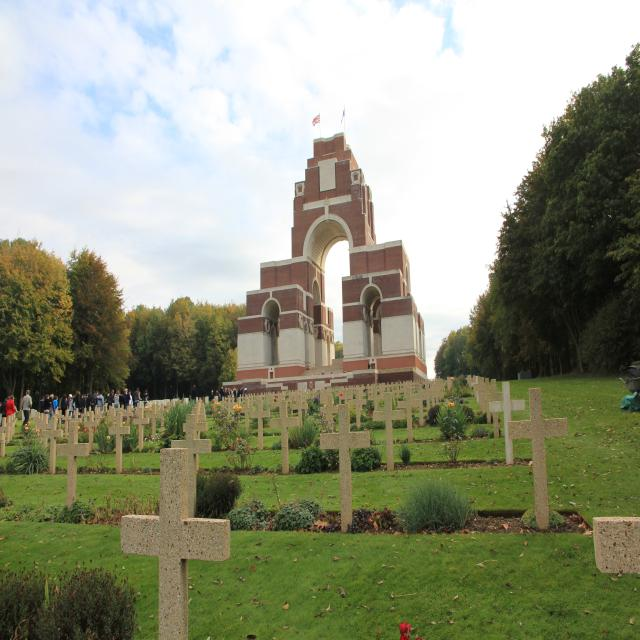body: (20, 389, 33, 432), (0, 396, 11, 427), (104, 389, 115, 418), (5, 394, 15, 422), (43, 394, 51, 424), (104, 388, 112, 417), (7, 396, 19, 414), (97, 391, 104, 419), (57, 396, 63, 424), (75, 391, 81, 418), (68, 396, 75, 419), (90, 391, 98, 411), (62, 398, 68, 423), (134, 387, 141, 407), (118, 390, 125, 410), (85, 393, 92, 413), (136, 392, 142, 414), (125, 390, 131, 412), (60, 394, 66, 416), (143, 389, 150, 407), (113, 391, 120, 408), (49, 394, 54, 417), (191, 384, 197, 402), (39, 396, 45, 414), (81, 394, 86, 414), (234, 387, 240, 402), (68, 394, 72, 416), (128, 388, 132, 407), (118, 390, 121, 415), (53, 396, 58, 410), (210, 389, 214, 401), (220, 386, 223, 401), (230, 388, 234, 398), (244, 386, 247, 397), (241, 387, 243, 402), (123, 388, 128, 394), (227, 388, 230, 397), (73, 389, 76, 398), (91, 391, 96, 396), (368, 362, 371, 370), (224, 386, 226, 397), (86, 391, 89, 398), (96, 393, 100, 398), (218, 392, 220, 400), (232, 386, 234, 394), (0, 401, 2, 408), (216, 390, 218, 396), (82, 393, 84, 398)
